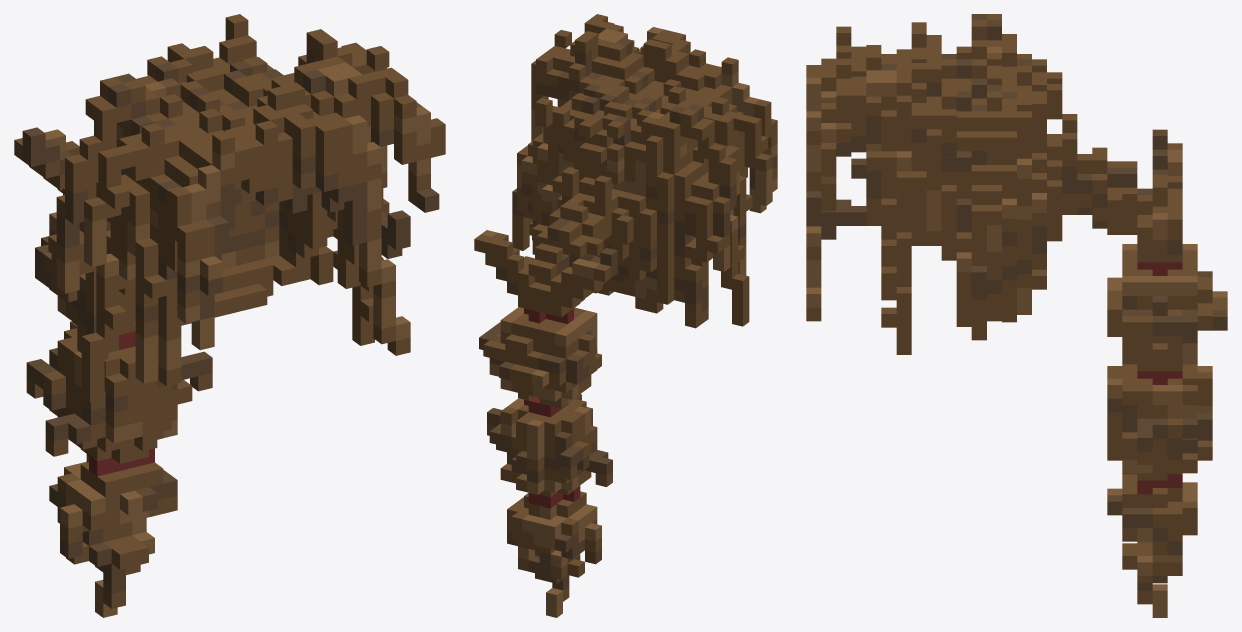
The model's file is shugo_female_hair.glb.
The picture shows the model from 3 angles, left to right: view 1: azimuth 30°, elevation 25°; view 2: azimuth 150°, elevation 25°; view 3: azimuth 270°, elevation 25°; orthographic projection. The views are drawn at different scales.
Parts seen in each view (by area): view 1: Model.001; view 2: Model.001; view 3: Model.001.
Boxes of the visible parts, x1,y1,x2,y2 form: Model.001: (14, 14, 445, 617); Model.001: (474, 14, 777, 617); Model.001: (806, 14, 1227, 617).
Bounding box in the file's own units: 0.903 × 1.85 × 1.2.
1 material, 1 textured.
